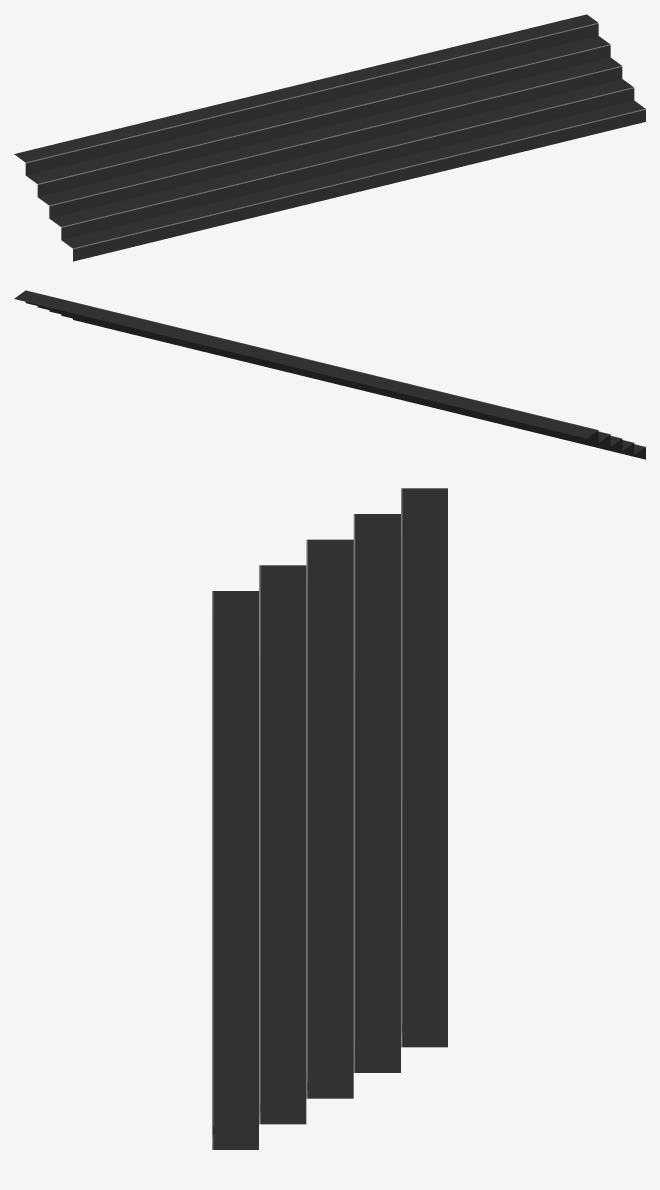
Rendered from Steps01_700x75cm.FBX.
3 renders of one model, top to bottom at view 1: azimuth 30°, elevation 25°; view 2: azimuth 150°, elevation 25°; view 3: azimuth 270°, elevation 25°, orthographic. The views are drawn at different scales.
Visible parts, largest first — view 1: Steps01_700x75cm; view 2: Steps01_700x75cm; view 3: Steps01_700x75cm.
Boxes of the visible parts, <box> form: Steps01_700x75cm: <box>14,14,645,261</box>; Steps01_700x75cm: <box>14,290,645,459</box>; Steps01_700x75cm: <box>212,488,447,1149</box>.
Bounding box in the file's own units: 7000 × 750 × 1250.
